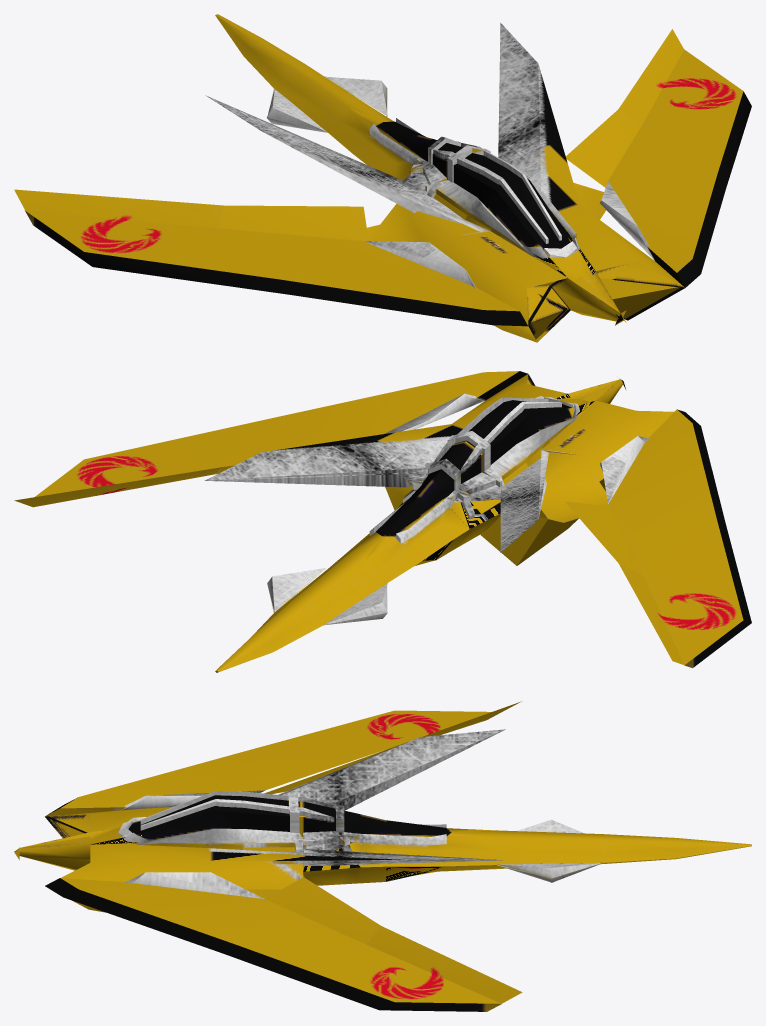
The model's file is myship_texture_4_export.glb.
The picture shows the model from 3 angles, top to bottom: view 1: azimuth 30°, elevation 25°; view 2: azimuth 150°, elevation 25°; view 3: azimuth 270°, elevation 25°; orthographic projection. The views are drawn at different scales.
Parts seen in each view (by area): view 1: Extrude.1; view 2: Extrude.1; view 3: Extrude.1.
Boxes of the visible parts, box(x1,y1,x2,y2) form: Extrude.1: box(14, 14, 751, 342); Extrude.1: box(14, 371, 751, 672); Extrude.1: box(14, 701, 751, 1011).
Bounding box in the file's own units: 422 × 70.8 × 451.
1 material, 1 textured.
